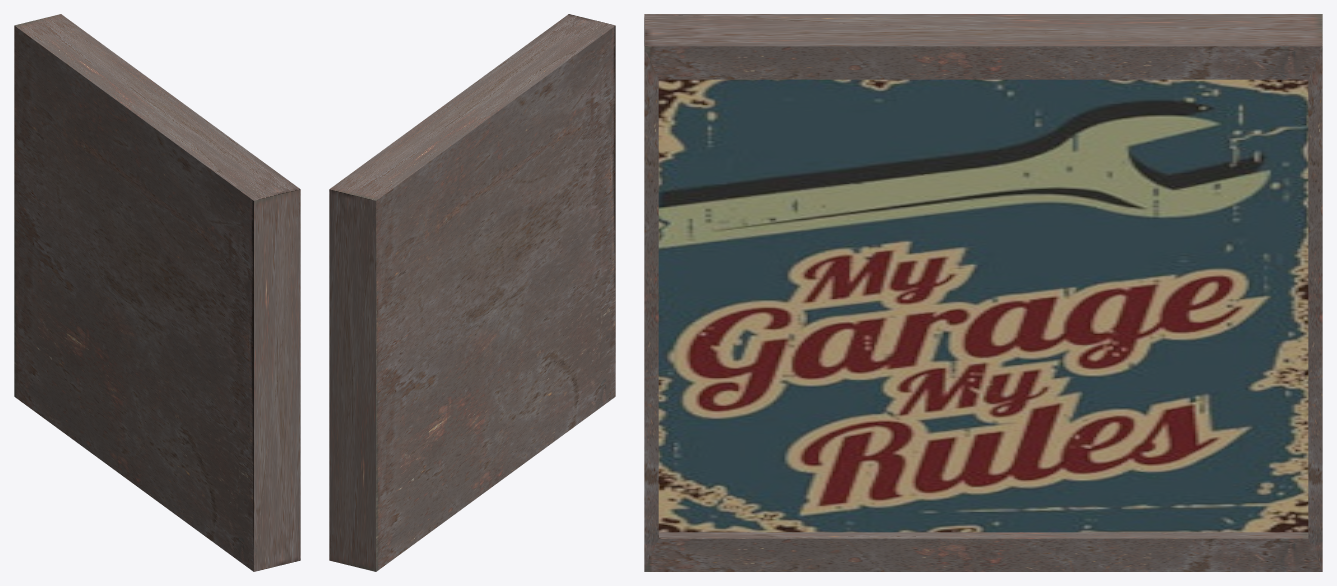
Rendered from tableau2.fbx.
3 renders of one model, left to right at view 1: azimuth 30°, elevation 25°; view 2: azimuth 150°, elevation 25°; view 3: azimuth 270°, elevation 25°, orthographic. The views are drawn at different scales.
Visible parts, largest first — view 1: tableau2; view 2: tableau2; view 3: tableau2.
Part boxes in pixels (x1,y1,x2,y2): tableau2: (14,14,300,571); tableau2: (329,14,615,571); tableau2: (644,14,1322,571).
Bounding box in the file's own units: 14.84 × 112 × 131.
2 materials, 2 textured.
